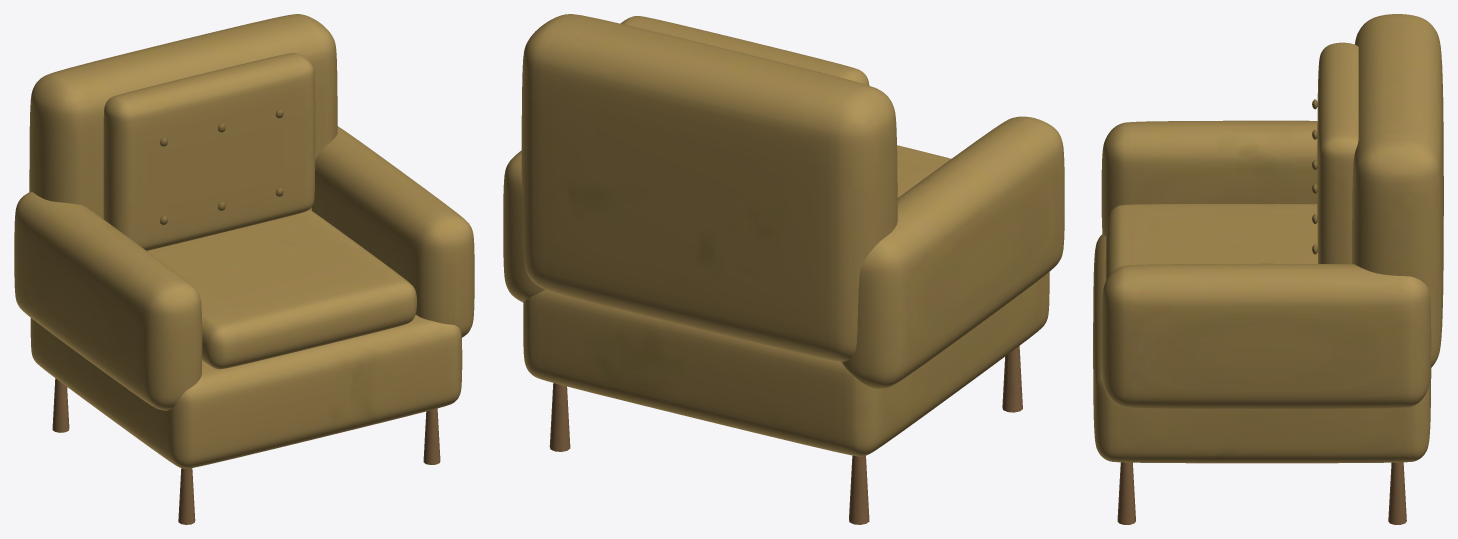
Rendered from armchair.glb.
3 views of the same model, side by side, from view 1: azimuth 30°, elevation 25°; view 2: azimuth 150°, elevation 25°; view 3: azimuth 270°, elevation 25° (orthographic). The views are drawn at different scales.
Parts seen in each view (by area): view 1: Armchair; view 2: Armchair; view 3: Armchair.
Part boxes in pixels (x1,y1,x2,y2): Armchair: (14,14,474,524); Armchair: (503,14,1064,524); Armchair: (1093,14,1443,524).
Bounding box in the file's own units: 0.969 × 0.9894 × 0.829.
3 materials, 3 textured.
